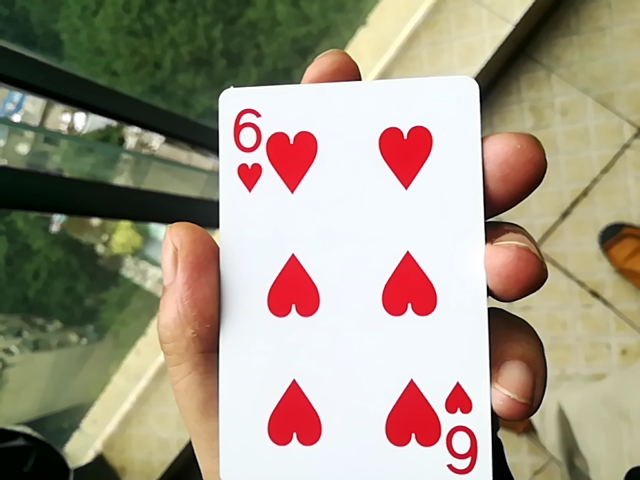hx 6: (205, 67, 493, 480)
